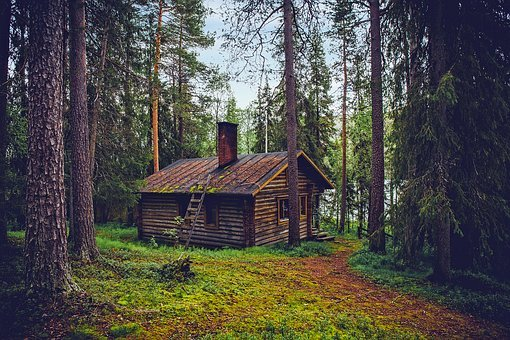forest: (8, 7, 501, 340)
house: (128, 123, 330, 253)
tree: (13, 6, 138, 322), (383, 1, 508, 316)
